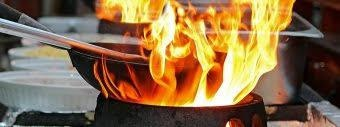fire: (96, 0, 296, 106)
